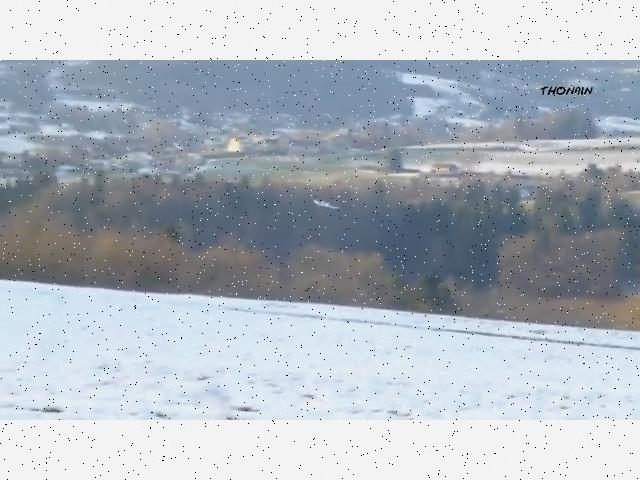Anti-Drone: (314, 199, 338, 209)
